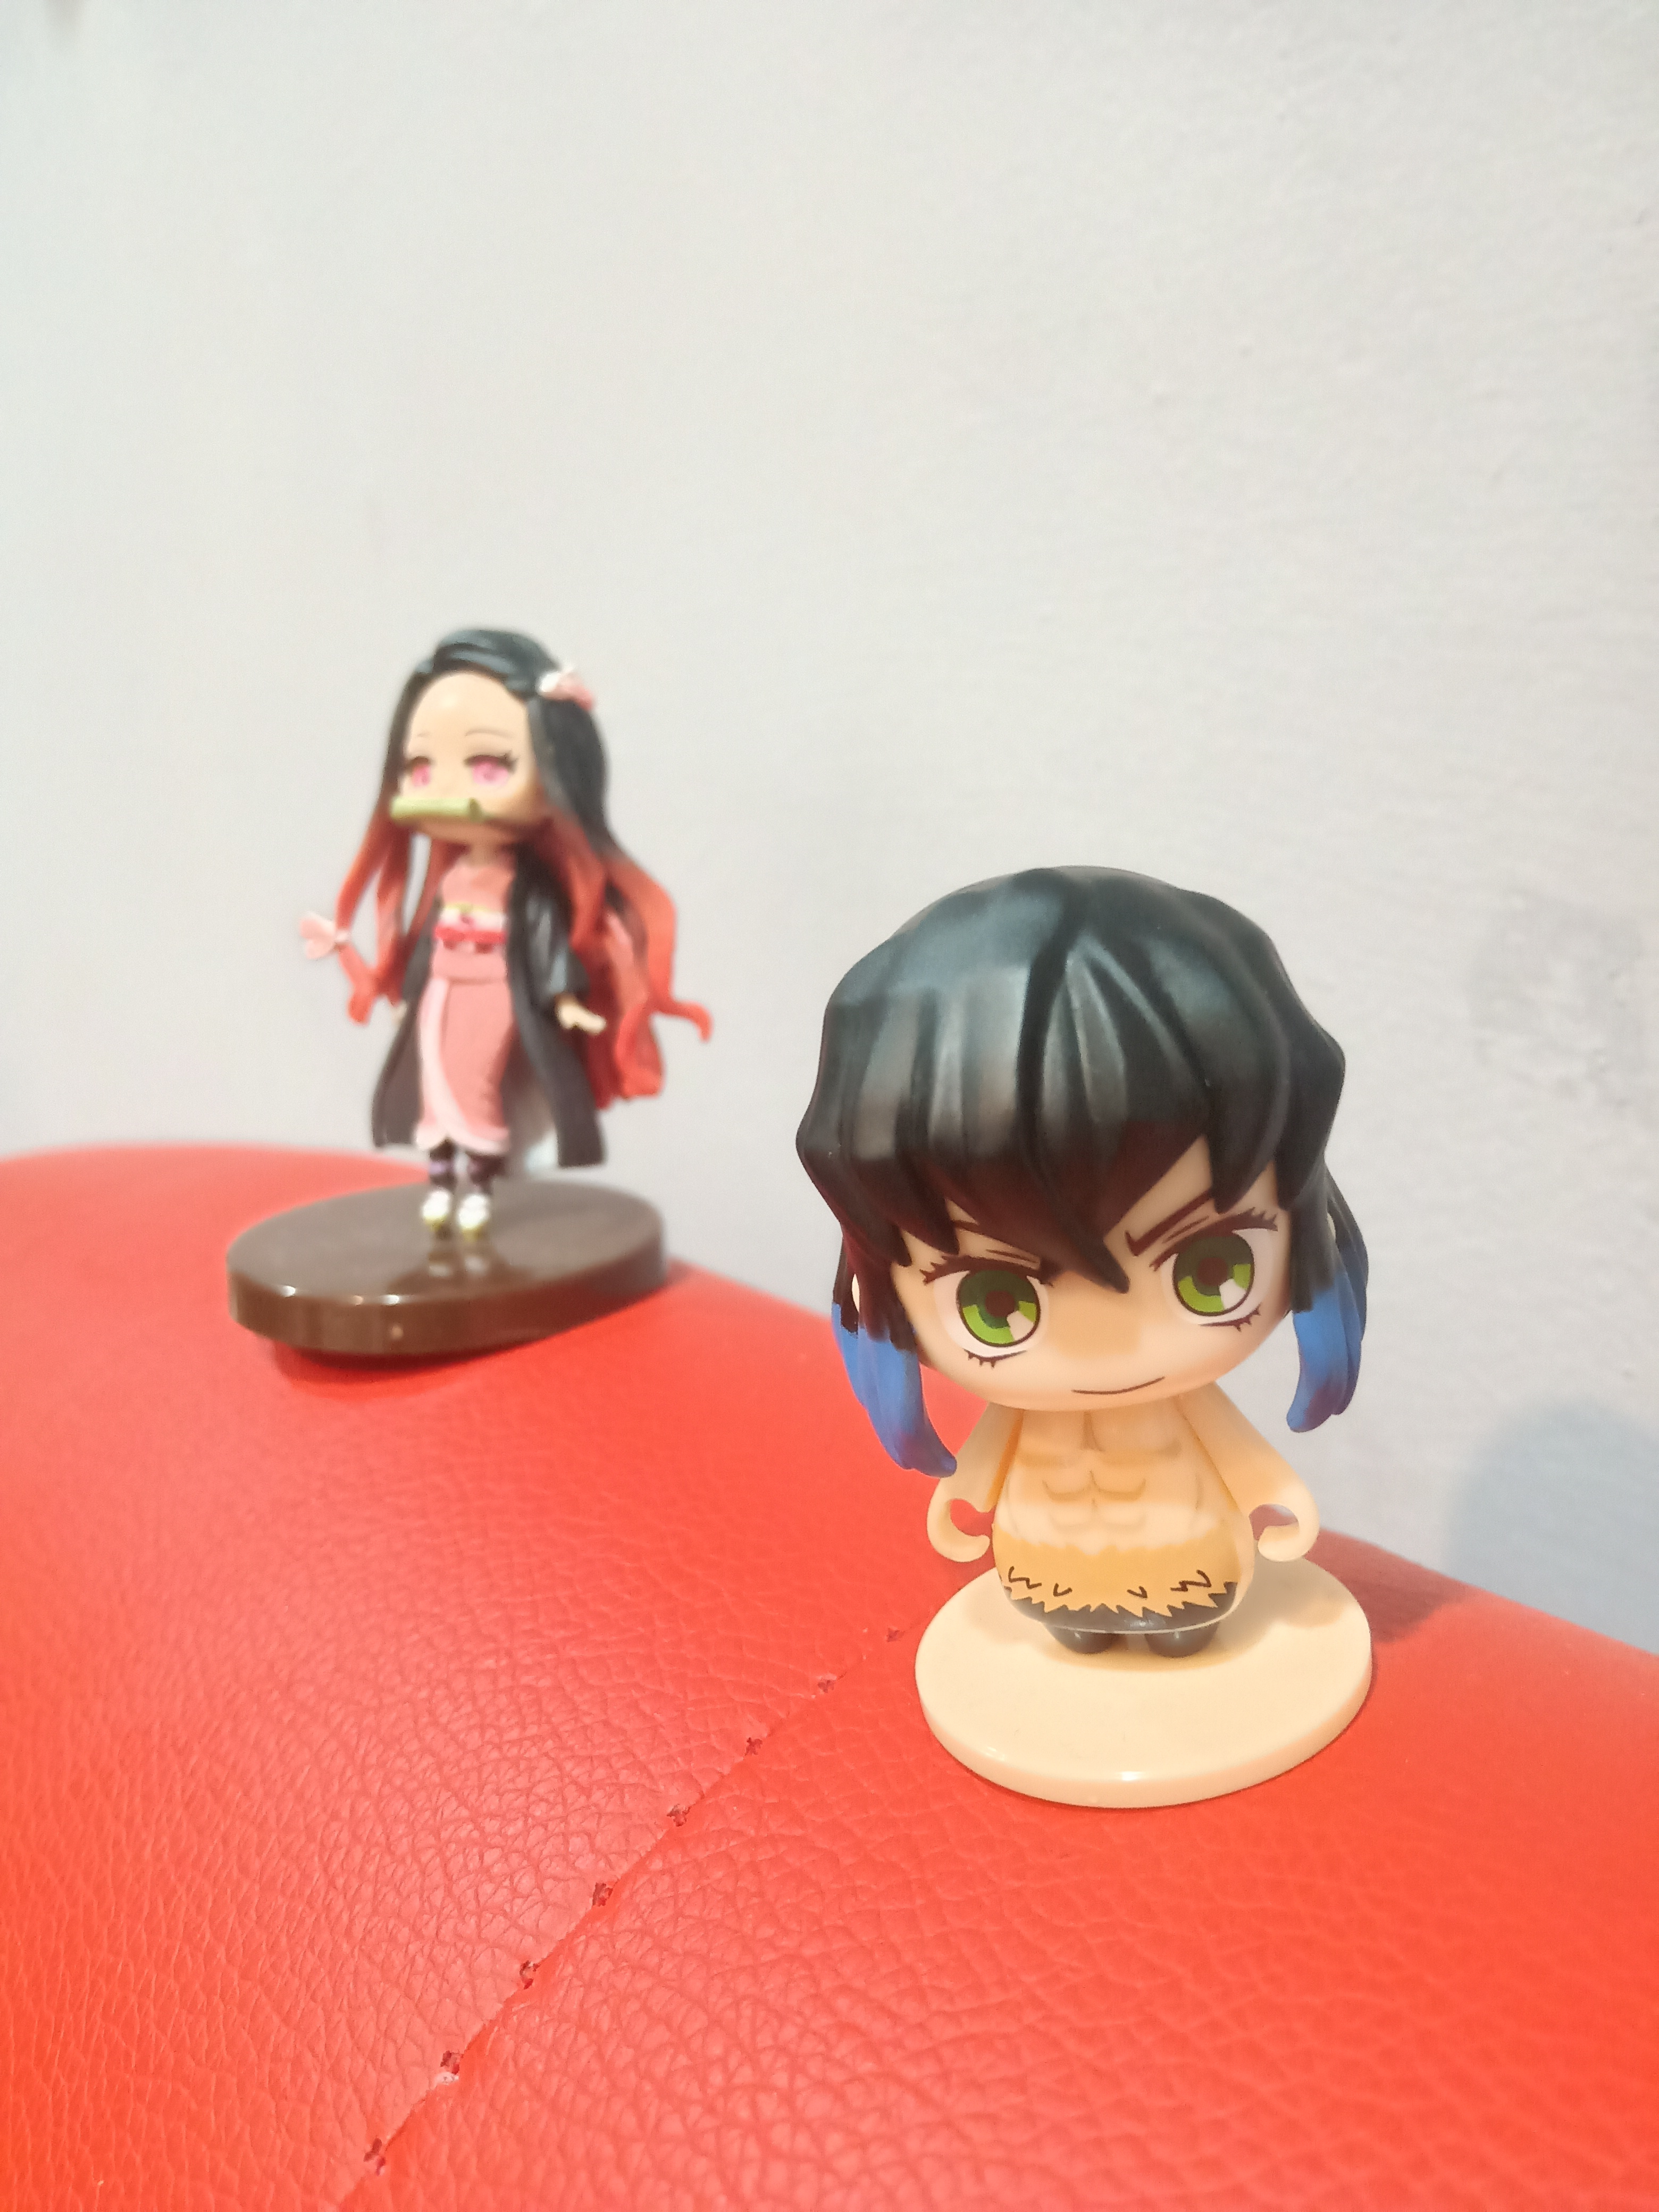Inosuke: (775, 850, 1420, 1825)
Nezuko: (204, 611, 737, 1376)
